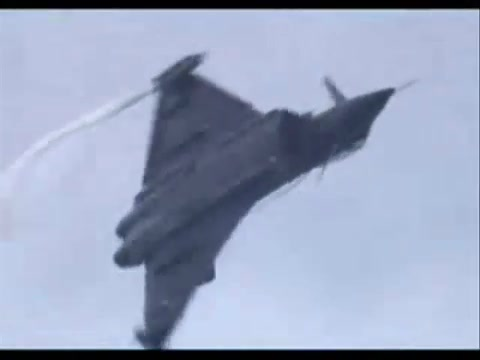aeroplane: (115, 55, 398, 350)
